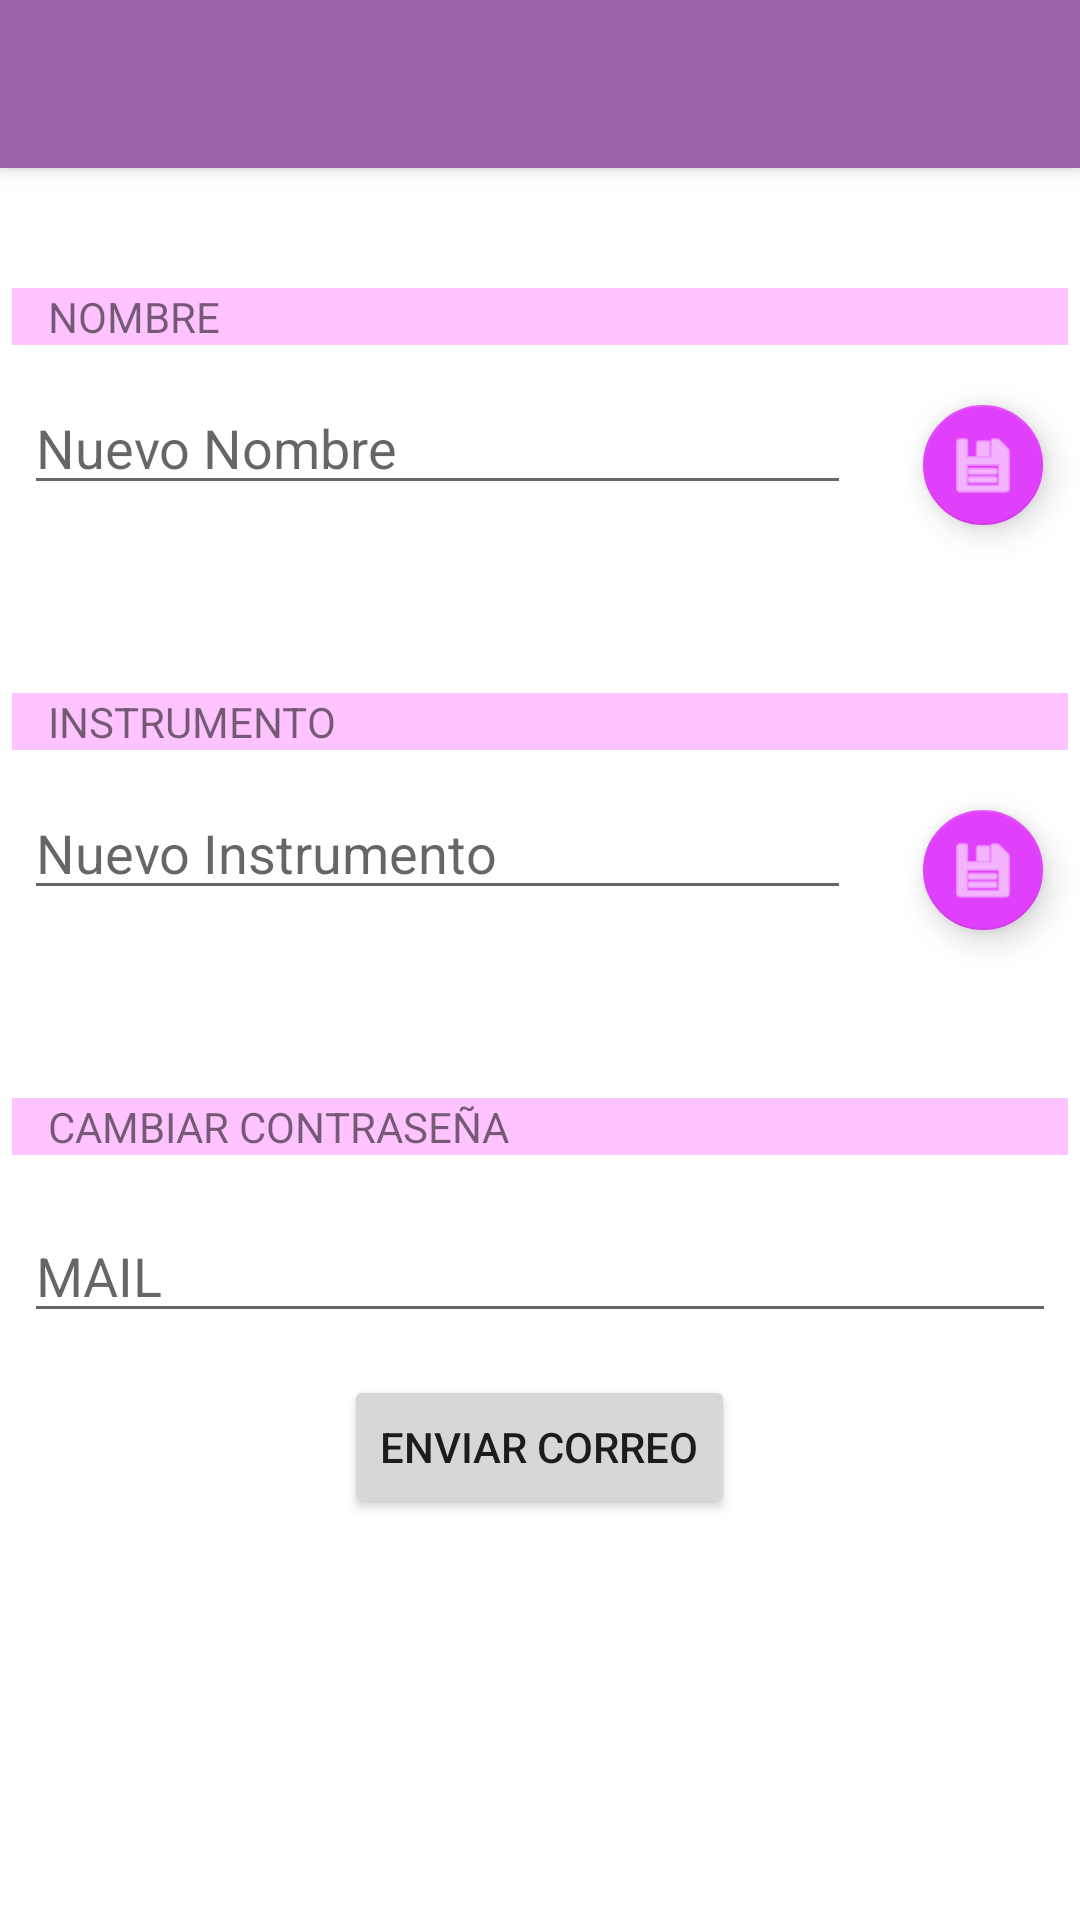

Icons on this 1080 × 1920 Android screen, each with the point to tap as point (x, y):
save: point (984, 466), point (984, 872)
